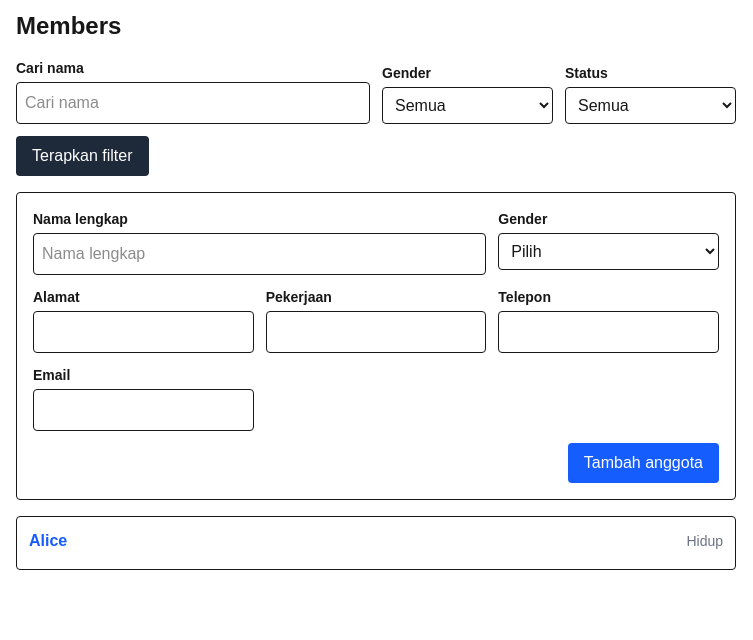
Test case: MembersPage › lists members and adds a new one
Expected: the link "Alice" is shown, [29,529,67,553]
Type "Bob" into the field with placeholder "Nama lengkap".
click(260, 254); type("Bob")  # box [33,233,486,275]
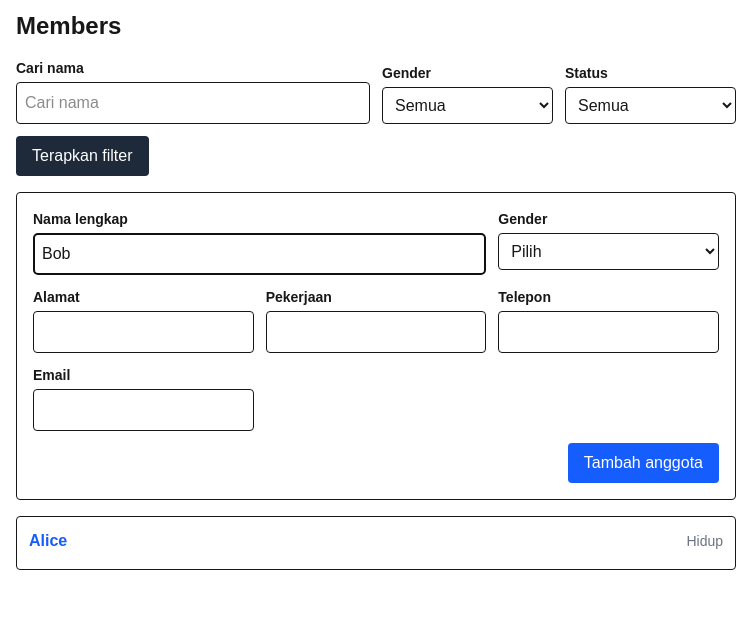
Click the button "Tambah anggota".
click(643, 463)  # box [568,443,719,483]
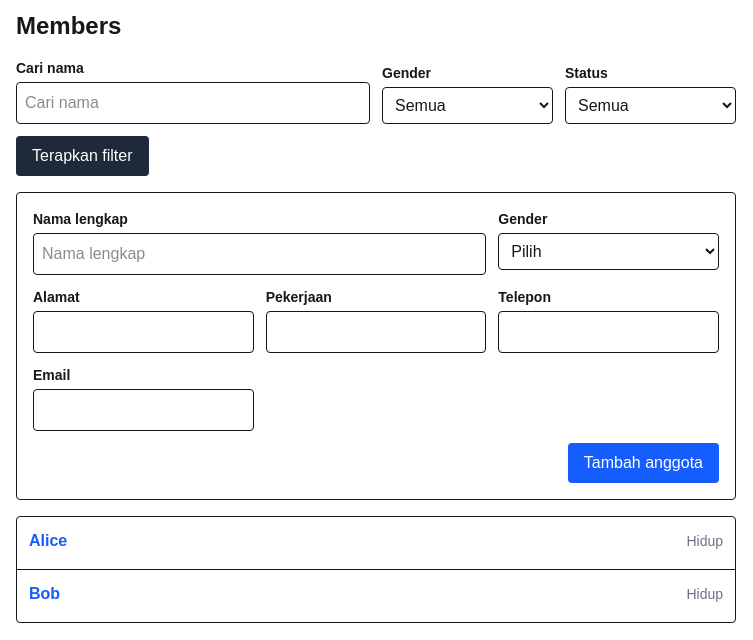
Expected: the link "Bob" is shown, [29,582,60,606]
